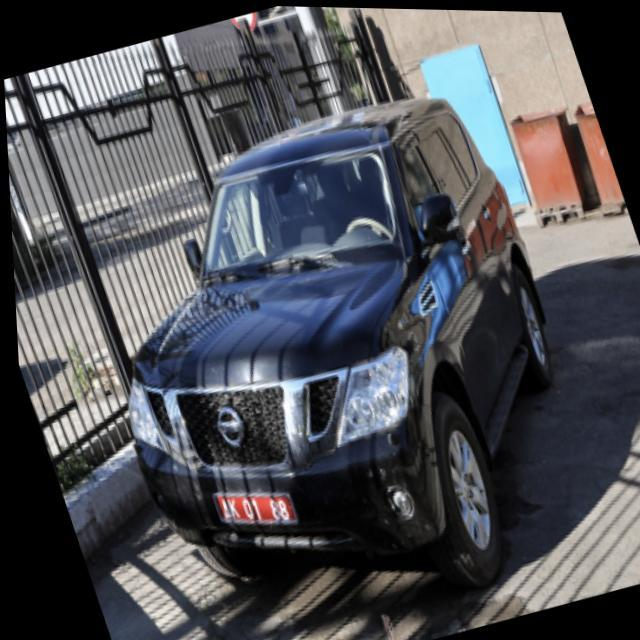license_plate: (205, 472, 292, 542)
